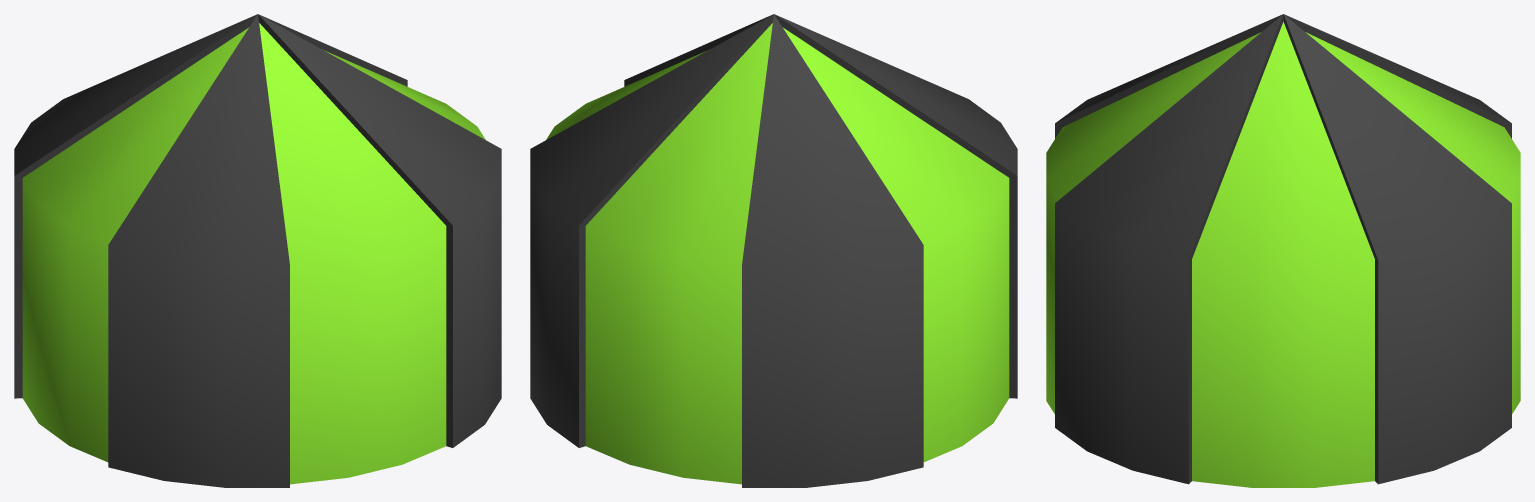
The model's file is Bumper_1.fbx.
3 renders of one model, left to right at view 1: azimuth 30°, elevation 25°; view 2: azimuth 150°, elevation 25°; view 3: azimuth 270°, elevation 25°, orthographic.
Visible parts, largest first — view 1: Bumper_1; view 2: Bumper_1; view 3: Bumper_1.
Boxes of the visible parts, <box> form: Bumper_1: <box>14,14,501,487</box>; Bumper_1: <box>530,14,1017,487</box>; Bumper_1: <box>1046,14,1520,487</box>.
Bounding box in the file's own units: 248 × 216 × 248.
